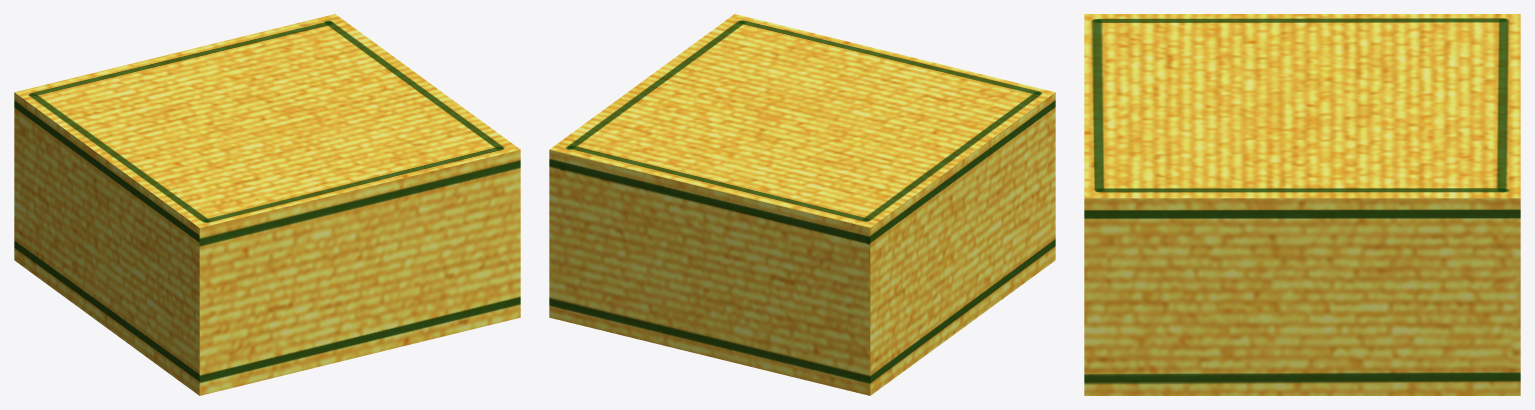
File: 2x4 Generic.fbx
The picture shows the model from 3 angles, left to right: view 1: azimuth 30°, elevation 25°; view 2: azimuth 150°, elevation 25°; view 3: azimuth 270°, elevation 25°; orthographic projection. The views are drawn at different scales.
Visible parts, largest first — view 1: 2x4 Generic; view 2: 2x4 Generic; view 3: 2x4 Generic.
Boxes of the visible parts, x1,y1,x2,y2 form: 2x4 Generic: (14,14,520,395); 2x4 Generic: (549,14,1055,395); 2x4 Generic: (1084,14,1520,395).
Size of the model in its own units: 400 by 200 by 400.
Materials: 1 (1 with a texture image).
